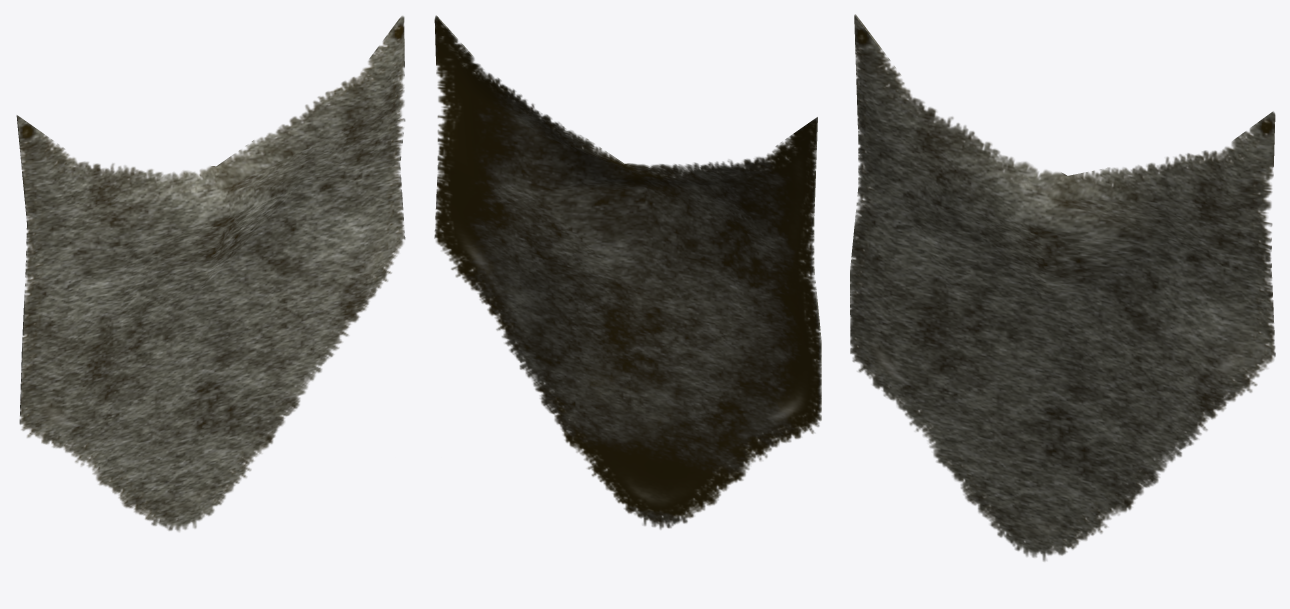
File: curtain2.glb
3 renders of one model, left to right at view 1: azimuth 30°, elevation 25°; view 2: azimuth 150°, elevation 25°; view 3: azimuth 330°, elevation 25°, orthographic. The views are drawn at different scales.
Parts seen in each view (by area): view 1: curtain2; view 2: curtain2; view 3: curtain2.
Part boxes in pixels (bbox=[...]): curtain2: bbox=[16, 16, 405, 531]; curtain2: bbox=[434, 15, 821, 529]; curtain2: bbox=[850, 14, 1275, 561].
Size of the model in its own units: 0.5609 by 0.6865 by 0.0562.
1 material, 1 textured.
